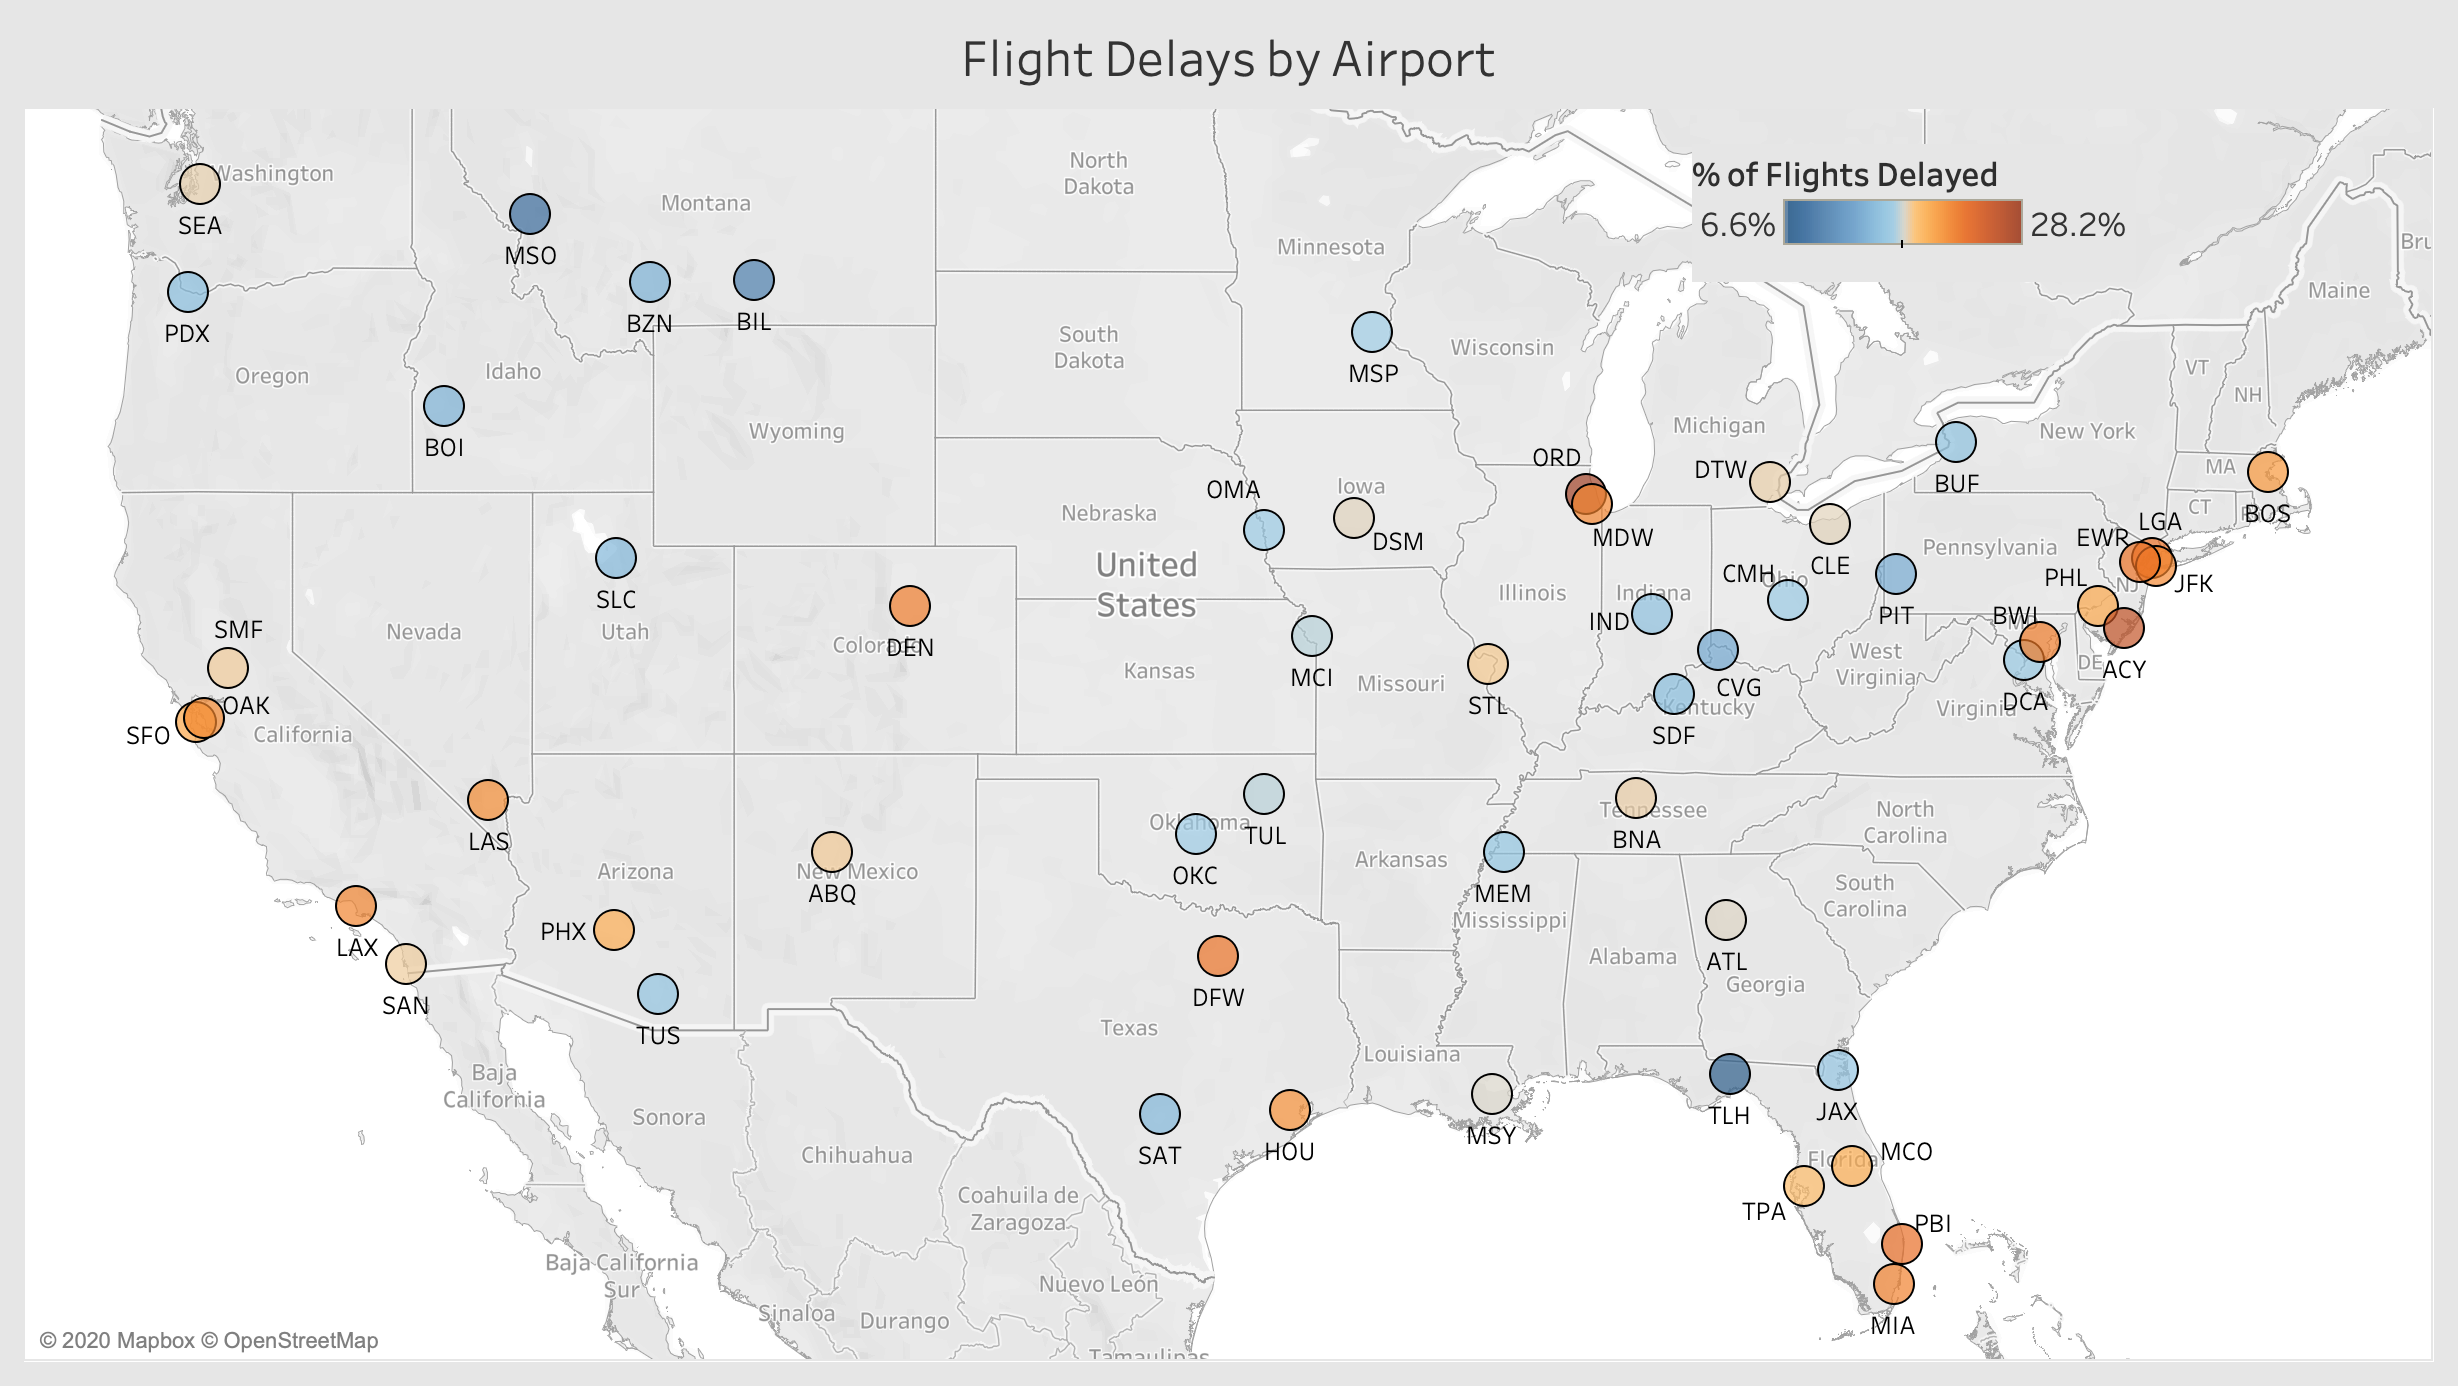

The dashboard page shown, as its layout file describes it:
{"tool":"tableau","page":{"name":"Flight Delays by Airport","canvas":[1000,1000],"units":"permille","ordinal":2},"visuals":[{"type":"worksheet","box":[0,0,1000,1000]},{"type":"worksheet","param":"vert","box":[4.2,7.6,991.7,984.8]},{"type":"worksheet","box":[4.2,7.6,991.7,40]},{"type":"worksheet","param":"horz","box":[4.2,47.6,991.7,944.8]},{"type":"worksheet","box":[4.2,47.6,991.7,944.8]},{"type":"worksheet","title":"Sheet 1","mark":"Automatic","rows":["lat_orig"],"cols":["long_orig"],"box":[4.2,47.6,991.7,944.8]},{"type":"worksheet","title":"Sheet 1","mark":"Automatic","rows":["lat_orig"],"cols":["long_orig"],"param":"[federated.0batpnj0axqtt6118kunj0ibt1vp].[avg:Calculation_1756192786232590336:qk","box":[688.4,103.9,180.6,109.7]}]}

Visuals, with their boxes on the dashboard's canvas, which has no fixed pixel size, in thousandths of its width and height (x1, y1, x2, y2). These are canvas units, not pixel positions in the 2458x1386 screenshot, which may show the page scaled, cropped or inside an application window:
worksheet: box(0, 0, 1000, 1000)
worksheet: box(4, 8, 996, 992)
worksheet: box(4, 8, 996, 48)
worksheet: box(4, 48, 996, 992)
worksheet: box(4, 48, 996, 992)
"Sheet 1" worksheet: box(4, 48, 996, 992)
"Sheet 1" worksheet: box(688, 104, 869, 214)
